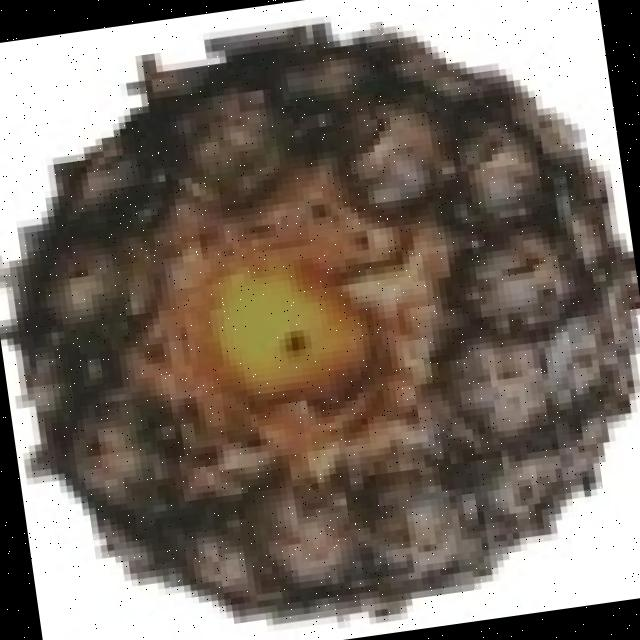pineapple: (31, 43, 640, 627)
